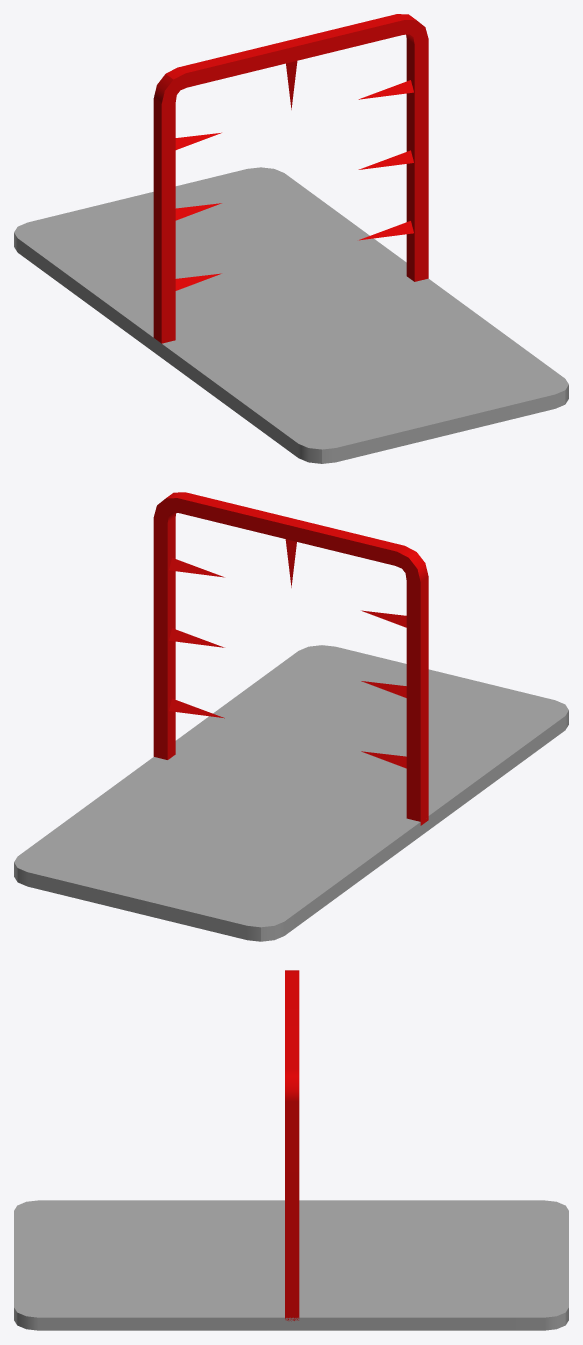
The model's file is test_obj_energy_trap_v01.fbx.
3 views of the same model, one above another, from view 1: azimuth 30°, elevation 25°; view 2: azimuth 150°, elevation 25°; view 3: azimuth 270°, elevation 25° (orthographic). The views are drawn at different scales.
Visible parts, largest first — view 1: obj_energy_trap; view 2: obj_energy_trap; view 3: obj_energy_trap.
Part boxes in pixels (box(x1,y1,x2,y2)): obj_energy_trap: box(14, 14, 568, 463); obj_energy_trap: box(14, 492, 568, 941); obj_energy_trap: box(14, 970, 568, 1330).
Bounding box in the file's own units: 1 × 0.9989 × 2.
